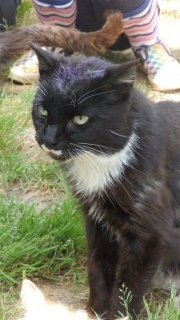Cat: (21, 43, 179, 319)
